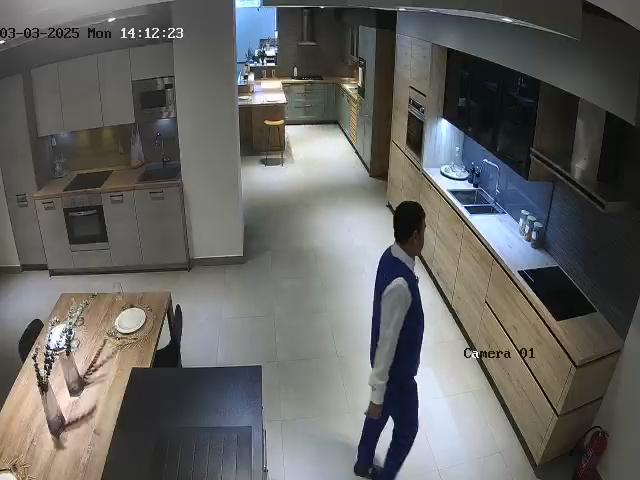employee: (354, 201, 428, 480)
